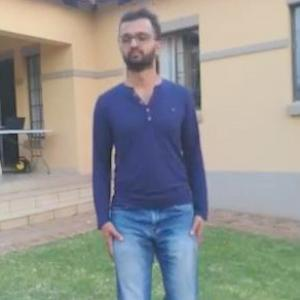follow: (96, 23, 200, 299)
